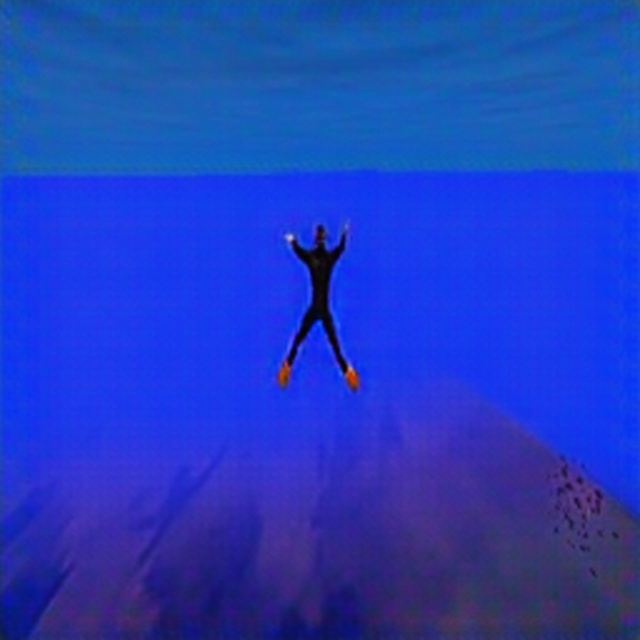diver: (275, 214, 362, 394)
